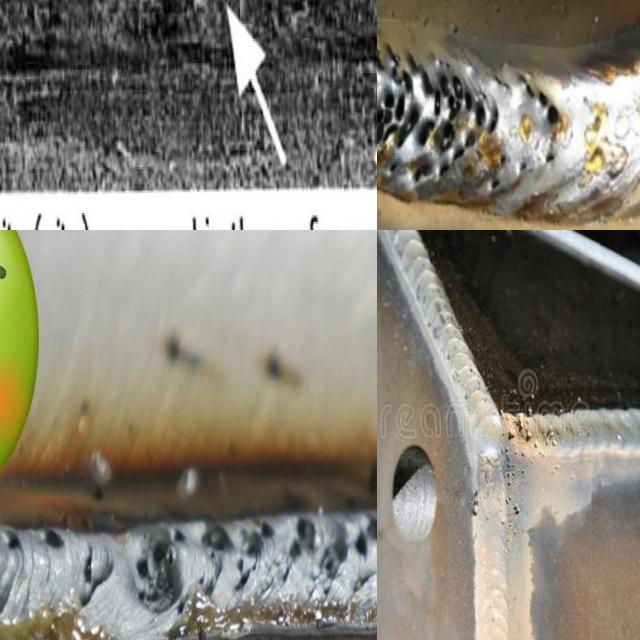defect: (377, 37, 502, 192), (281, 515, 377, 598), (197, 518, 275, 594), (130, 526, 193, 619), (500, 415, 567, 487), (512, 67, 562, 132), (68, 542, 94, 610), (40, 521, 67, 556), (4, 530, 25, 557), (469, 482, 482, 525), (503, 492, 523, 518), (543, 143, 557, 169), (489, 176, 502, 192), (518, 158, 528, 176), (497, 152, 506, 166)
